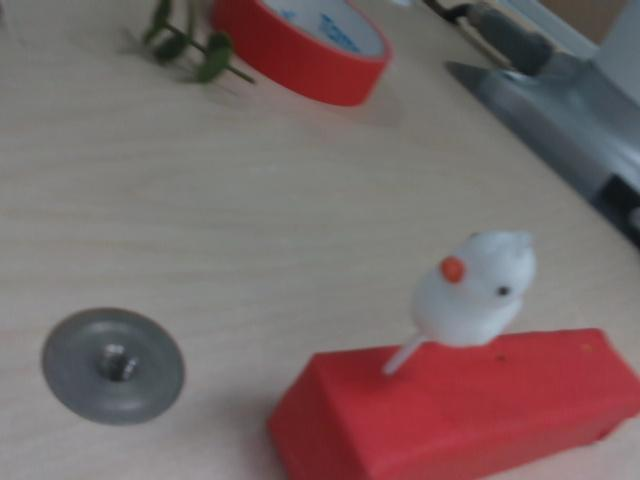w_duck: (410, 213, 546, 357)
